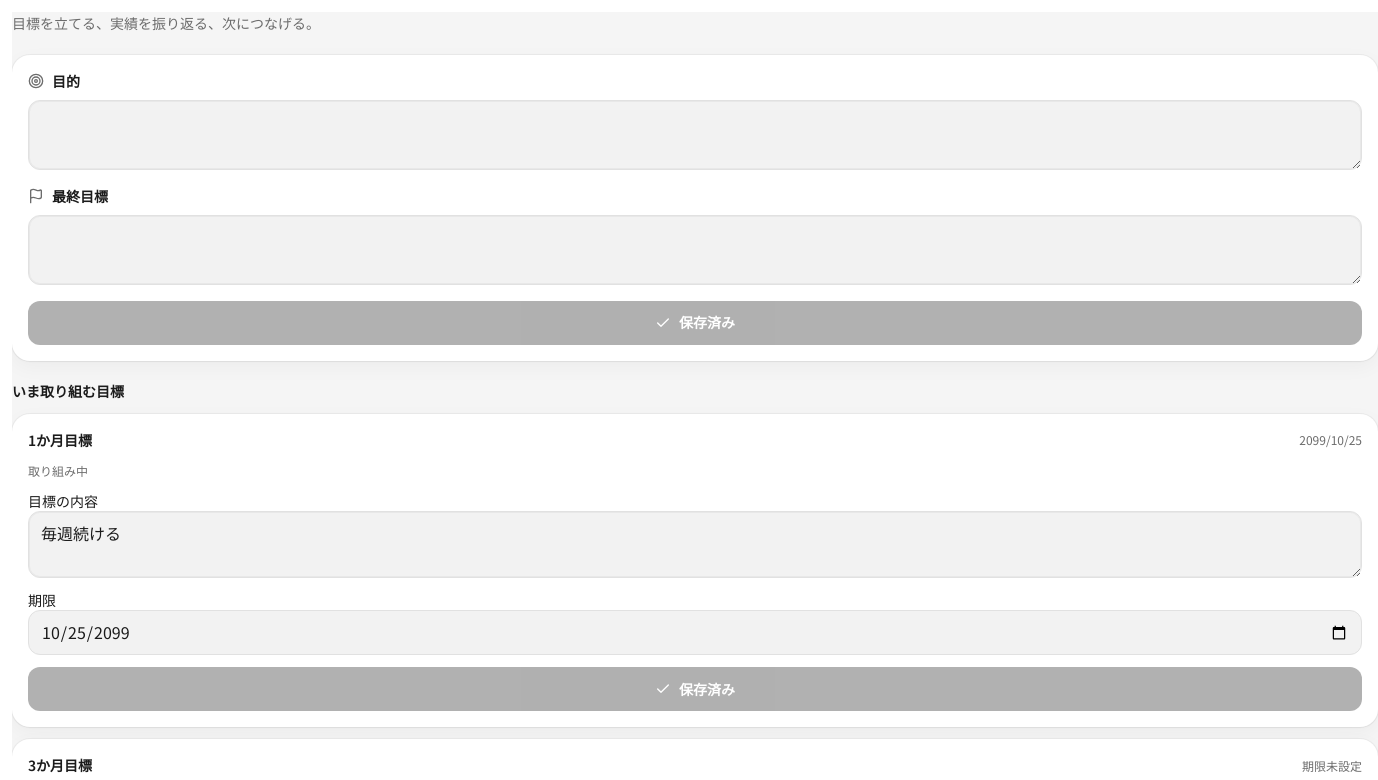
Test: direct goal editing › keeps edits on a save error and permits retry
This screenshot has width=1378, height=780.
Replace the text in the text box labelled "目標の内容" with "新しい目標" at point(695, 545), box [28,511,1362,578]
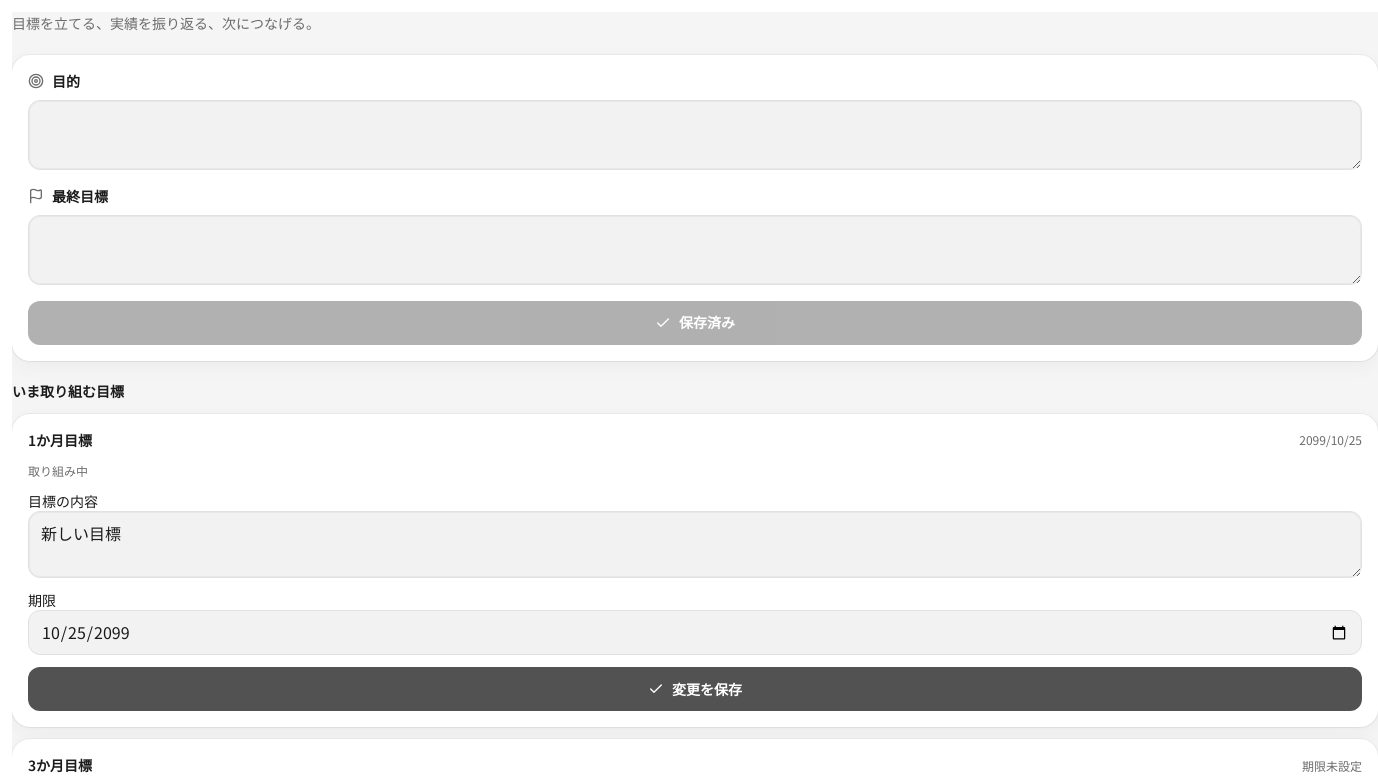
Click the button "変更を保存" at point(695, 689), box [28,667,1362,711]
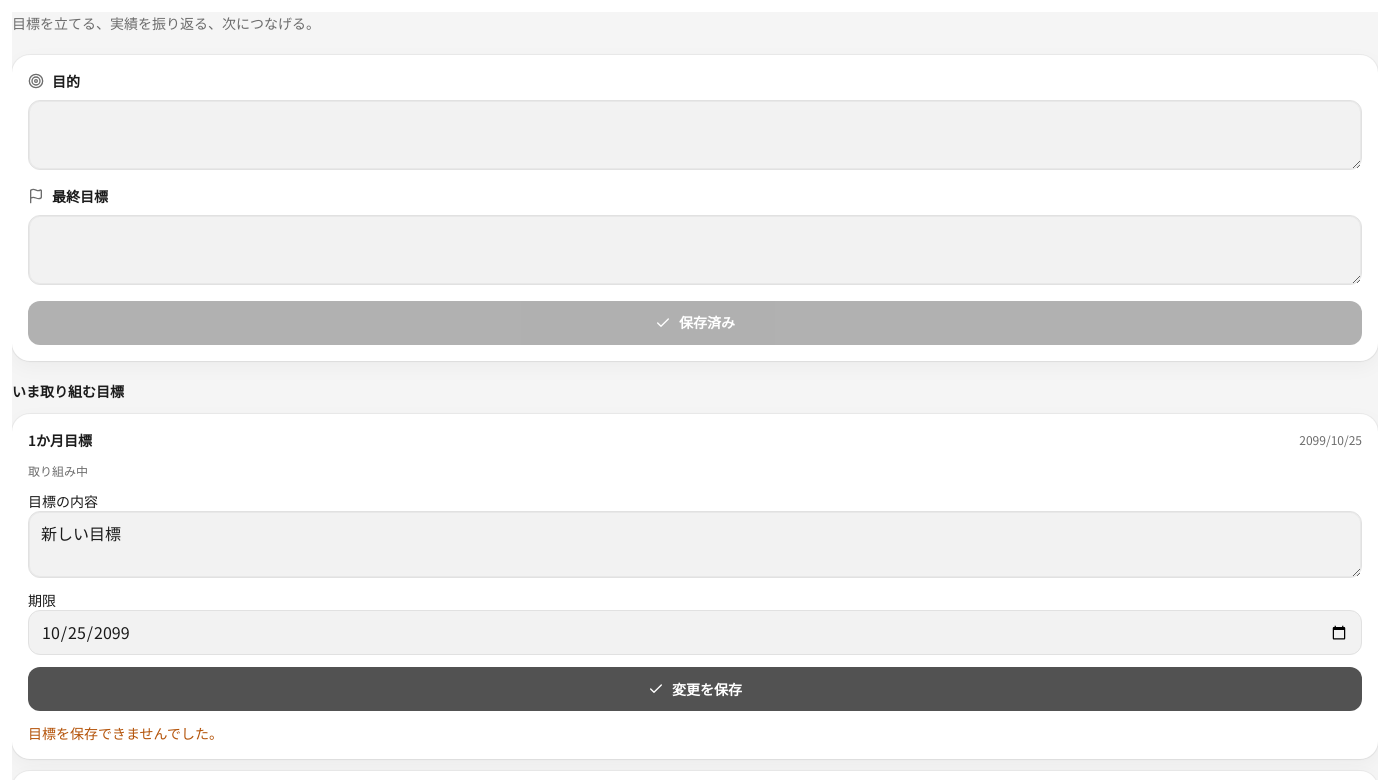
Check: the message "目標を保存できませんでした。" is shown, box [28,723,223,743]
Click the button "変更を保存" at point(695, 689), box [28,667,1362,711]
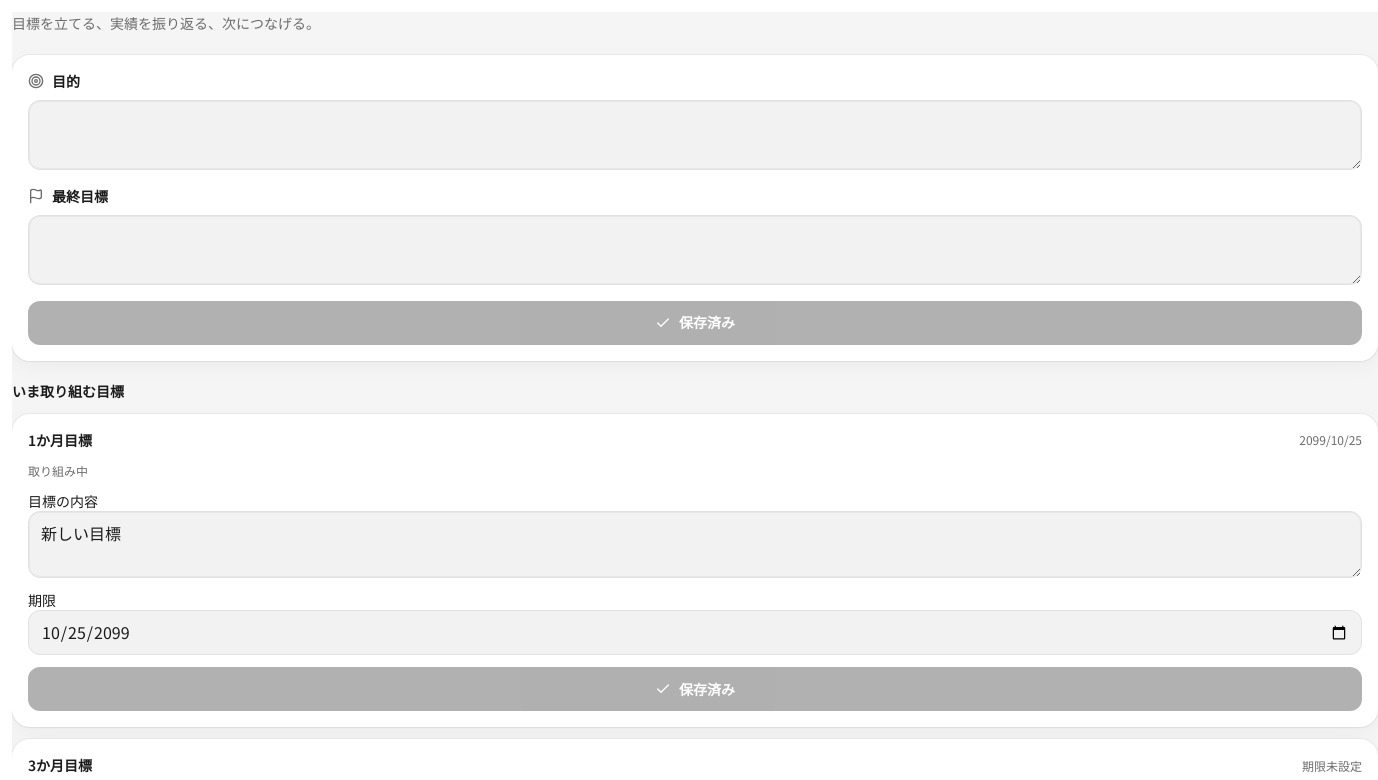
Check: the button "保存済み" below "2099/10/25" is shown, box [28,667,1362,711]
